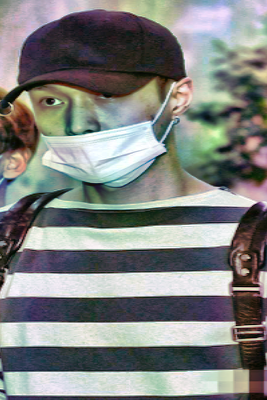mask_weared_incorrect: (31, 86, 171, 184)
